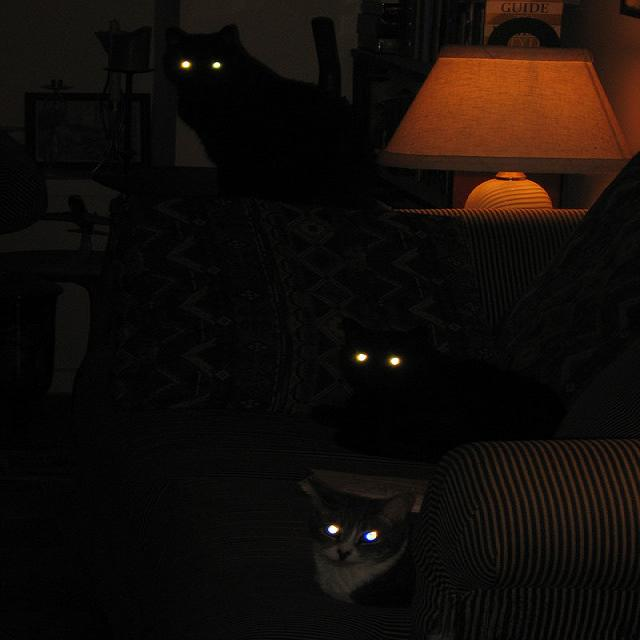Cat: (157, 24, 399, 235), (302, 322, 587, 454), (267, 472, 482, 623)
chair: (85, 184, 640, 640)
